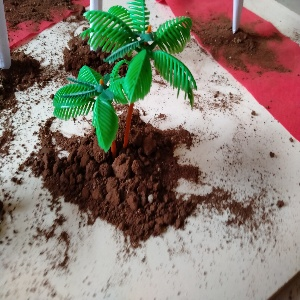plant: (49, 7, 181, 150)
